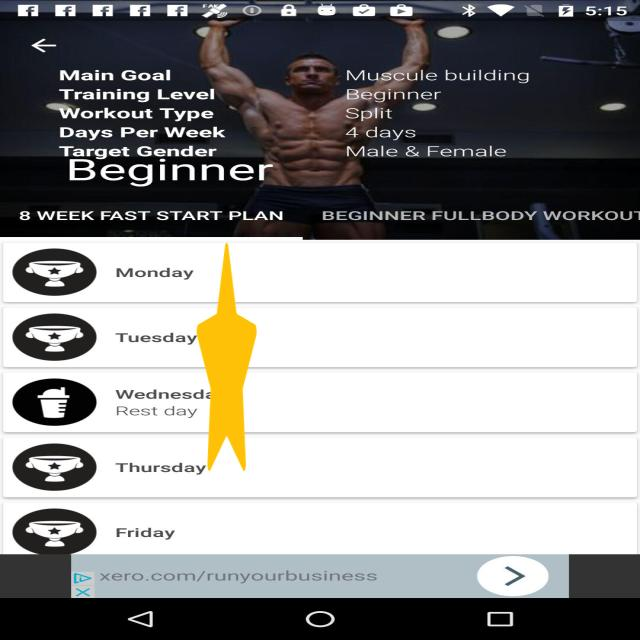forced continuity: (196, 243, 256, 471)
